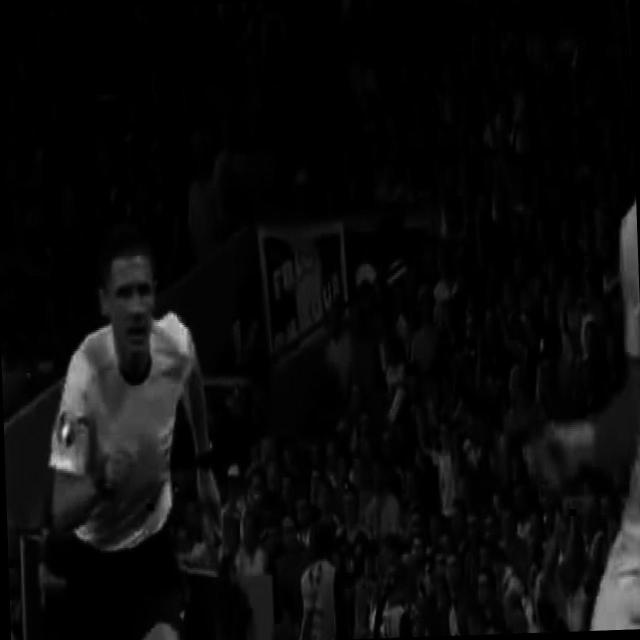player-white: (1, 216, 226, 640), (507, 0, 640, 633)
